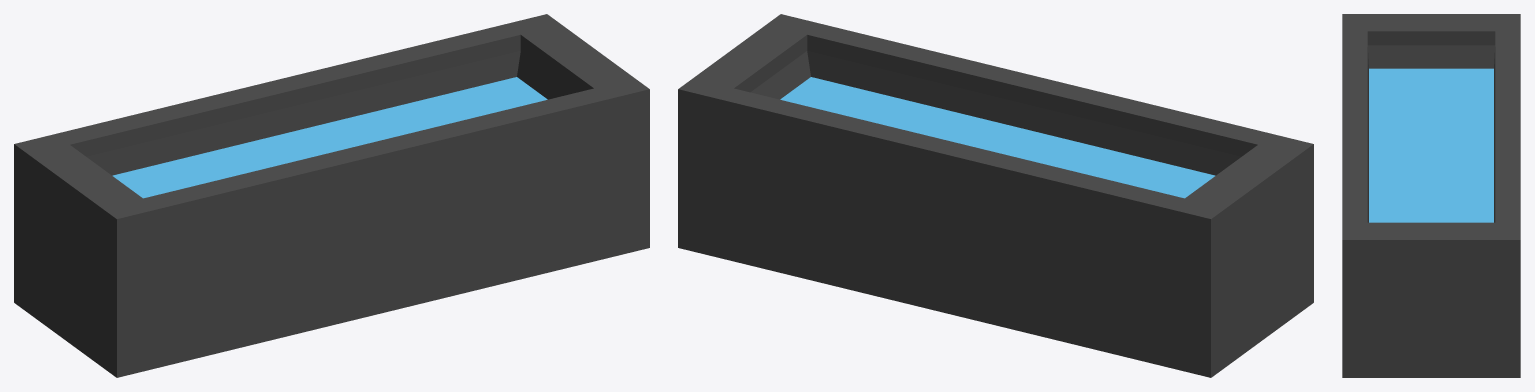
File: Abreuvoir.glb
3 renders of one model, left to right at view 1: azimuth 30°, elevation 25°; view 2: azimuth 150°, elevation 25°; view 3: azimuth 270°, elevation 25°, orthographic. The views are drawn at different scales.
Visible parts, largest first — view 1: Abreuvoir; view 2: Abreuvoir; view 3: Abreuvoir.
Part boxes in pixels (left/top/right/bottom): Abreuvoir: left=14, top=14, right=649, bottom=377; Abreuvoir: left=678, top=14, right=1313, bottom=377; Abreuvoir: left=1342, top=14, right=1520, bottom=377.
Size of the model in its own units: 2 by 0.5694 by 0.6675.
1 material, 1 textured.
